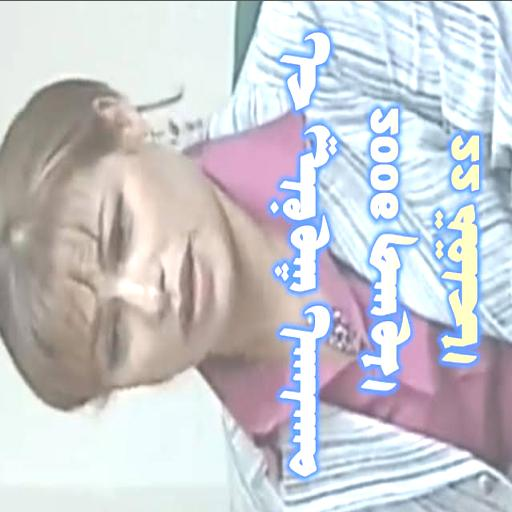zeineb: (53, 98, 232, 387)
